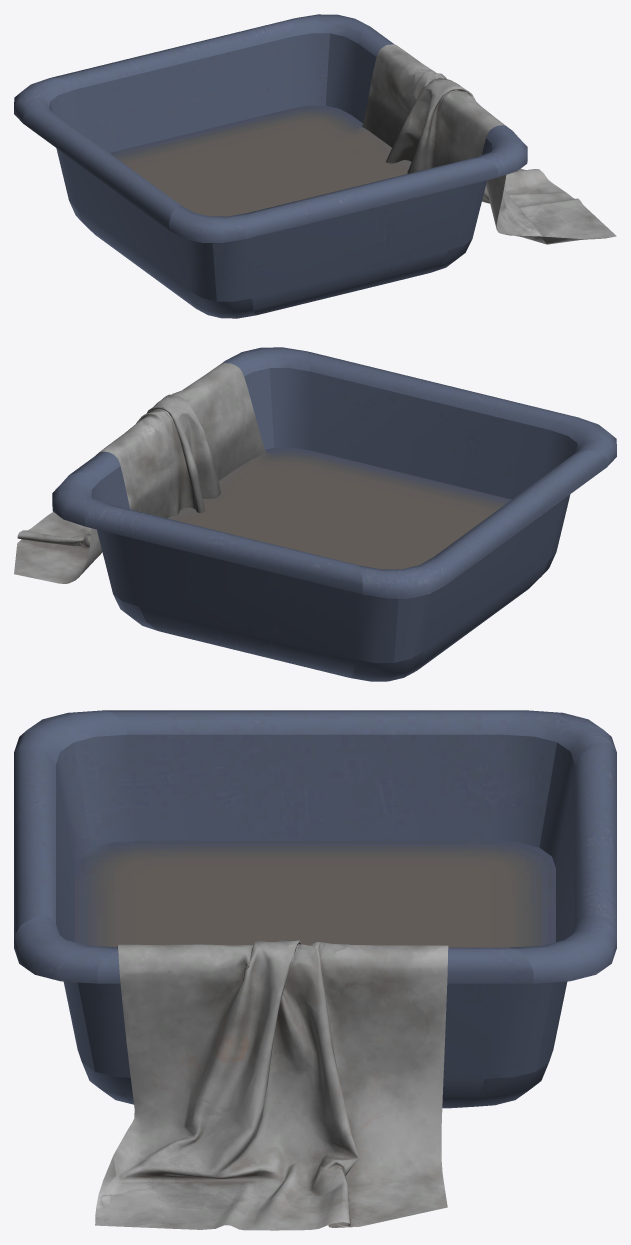
The model's file is Basin_SM.fbx.
3 views of the same model, one above another, from view 1: azimuth 30°, elevation 25°; view 2: azimuth 150°, elevation 25°; view 3: azimuth 270°, elevation 25° (orthographic). The views are drawn at different scales.
Visible parts, largest first — view 1: Basin_SM; view 2: Basin_SM; view 3: Basin_SM.
Part boxes in pixels (<box>): Basin_SM: <box>14,14,616,318</box>; Basin_SM: <box>14,347,616,681</box>; Basin_SM: <box>14,710,616,1230</box>.
Size of the model in its own units: 51.49 by 14.82 by 39.64.
